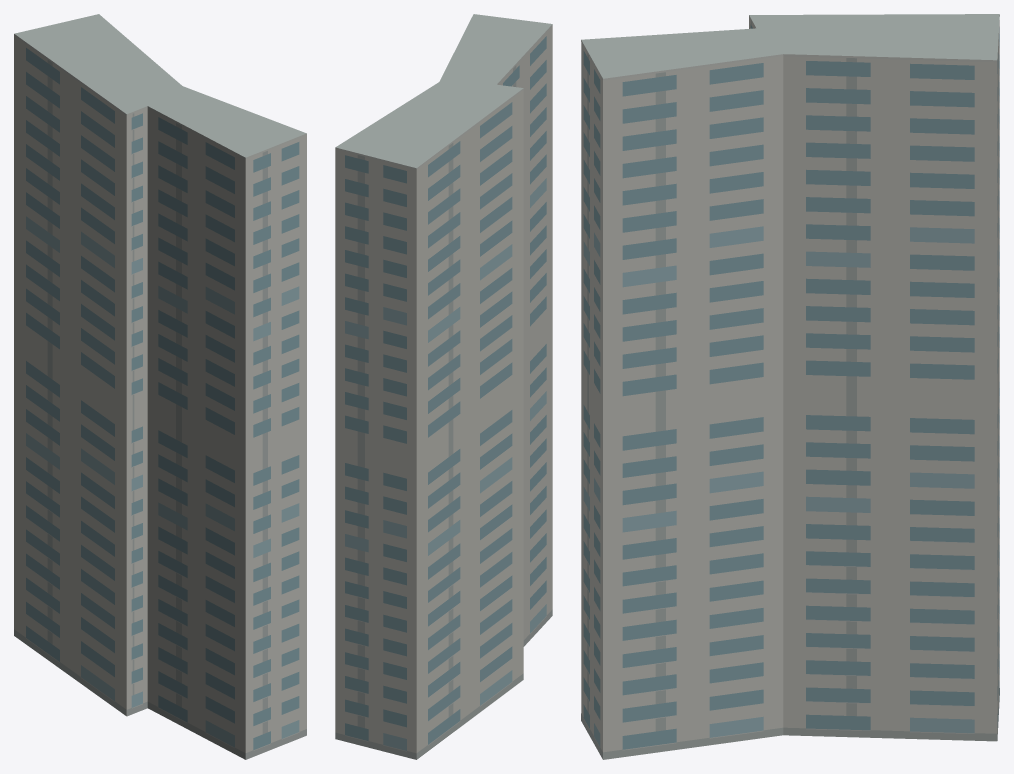
File: residential-dde0e830-9b4b-4b26-a230-83f65413a038.glb
The picture shows the model from 3 angles, left to right: view 1: azimuth 30°, elevation 25°; view 2: azimuth 150°, elevation 25°; view 3: azimuth 270°, elevation 25°; orthographic projection. The views are drawn at different scales.
Visible parts, largest first — view 1: residential-dde0e830-9b4b-4b26-a230-83f65413a038.tmp; view 2: residential-dde0e830-9b4b-4b26-a230-83f65413a038.tmp; view 3: residential-dde0e830-9b4b-4b26-a230-83f65413a038.tmp.
Boxes of the visible parts, <box> form: residential-dde0e830-9b4b-4b26-a230-83f65413a038.tmp: <box>14,14,306,759</box>; residential-dde0e830-9b4b-4b26-a230-83f65413a038.tmp: <box>335,14,552,759</box>; residential-dde0e830-9b4b-4b26-a230-83f65413a038.tmp: <box>581,14,999,759</box>.
Size of the model in its own units: 17.15 by 84 by 46.8.
